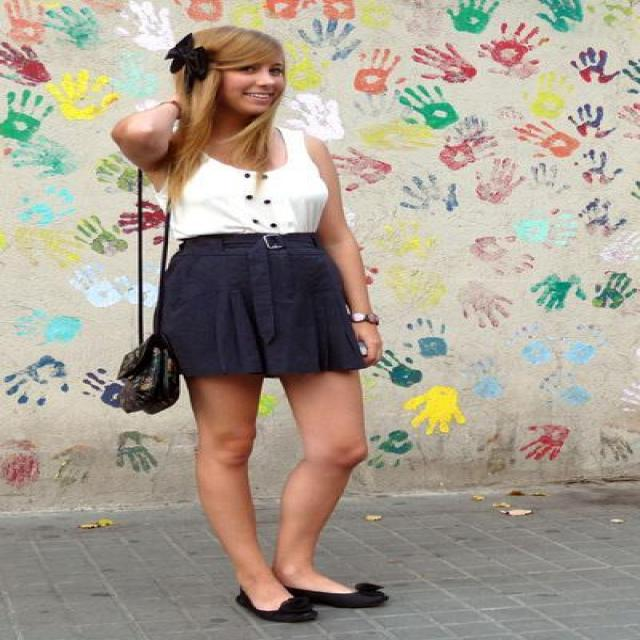bag: (134, 328, 202, 413)
shirt: (154, 120, 326, 237)
shoe: (235, 583, 387, 623)
skirt: (139, 243, 378, 382)
